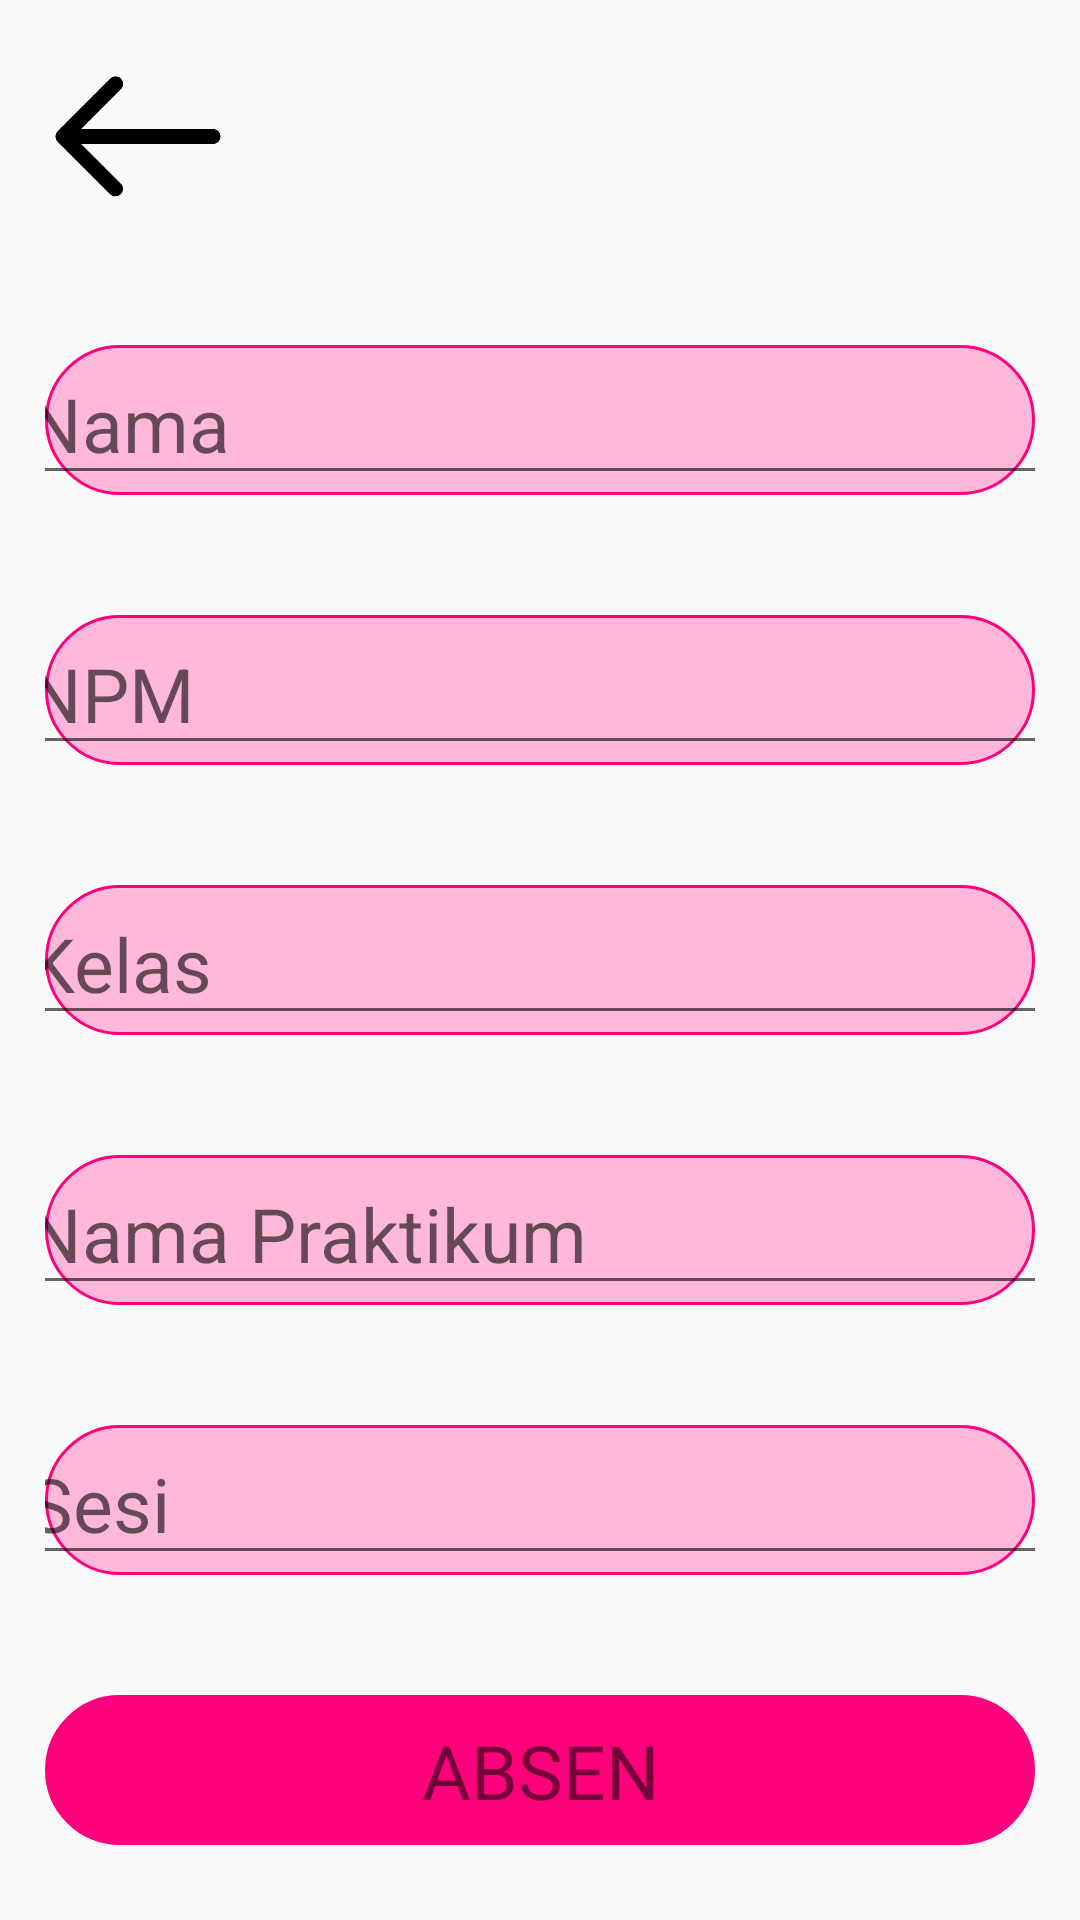

Icon bounding boxes for this 1080w x 1920h phone screenshot, format (x1, y1, x2, y2):
back: (55, 76, 221, 197)
